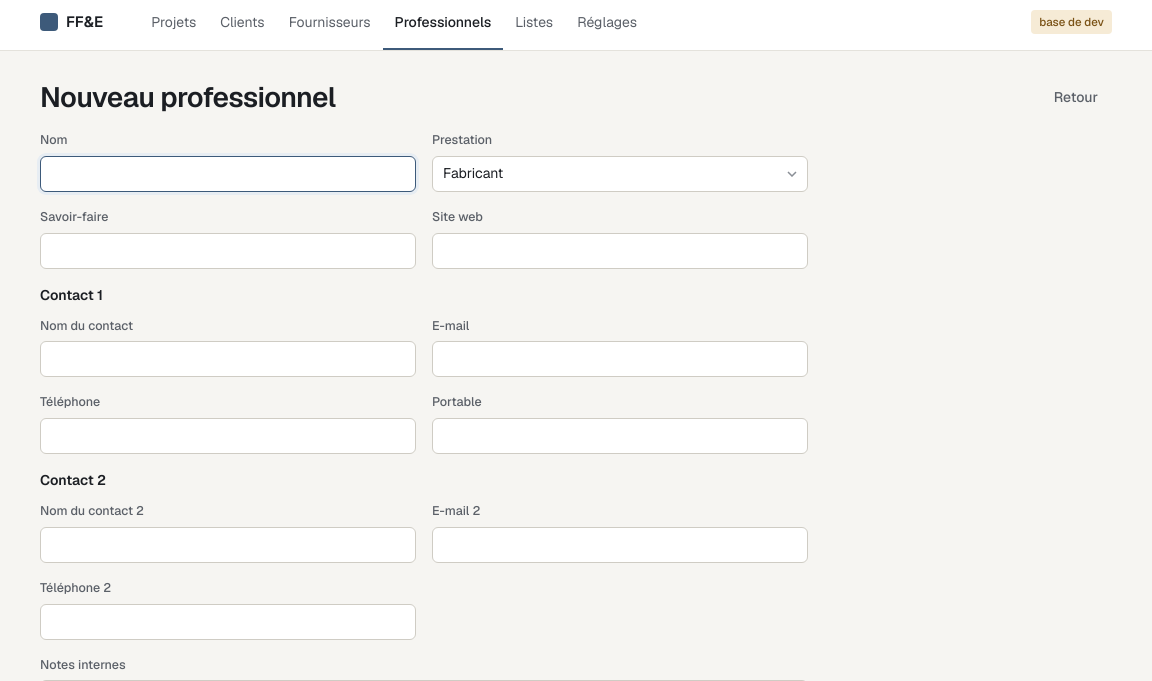
Test: professionnels › création et archivage avec confirmation
Type "Hay" into the field labelled "Nom" at (228, 174), box 40,156 -> 416,192
Select "Artisan" in the dropdown labelled "Prestation" at (620, 174), box 432,156 -> 808,192
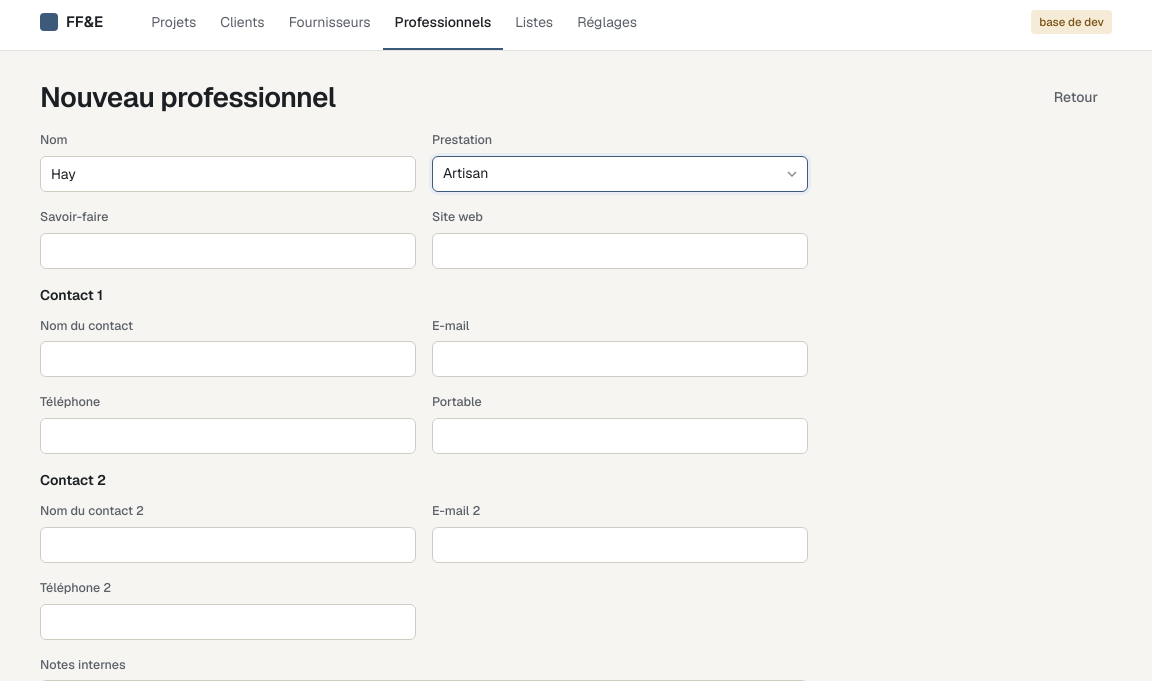
Type "Céramiste" into the field labelled "Savoir-faire" at (228, 250), box 40,232 -> 416,268
(page scrolled)
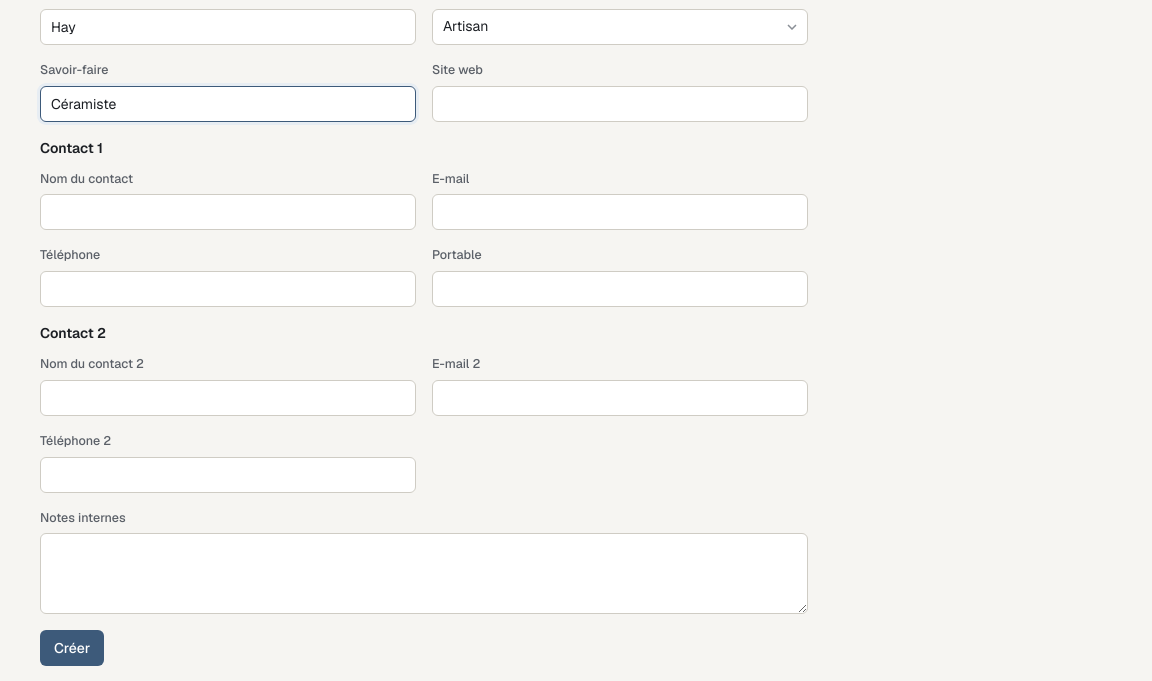
Click the button "Créer" at (72, 648), box 40,630 -> 104,666
(page scrolled)
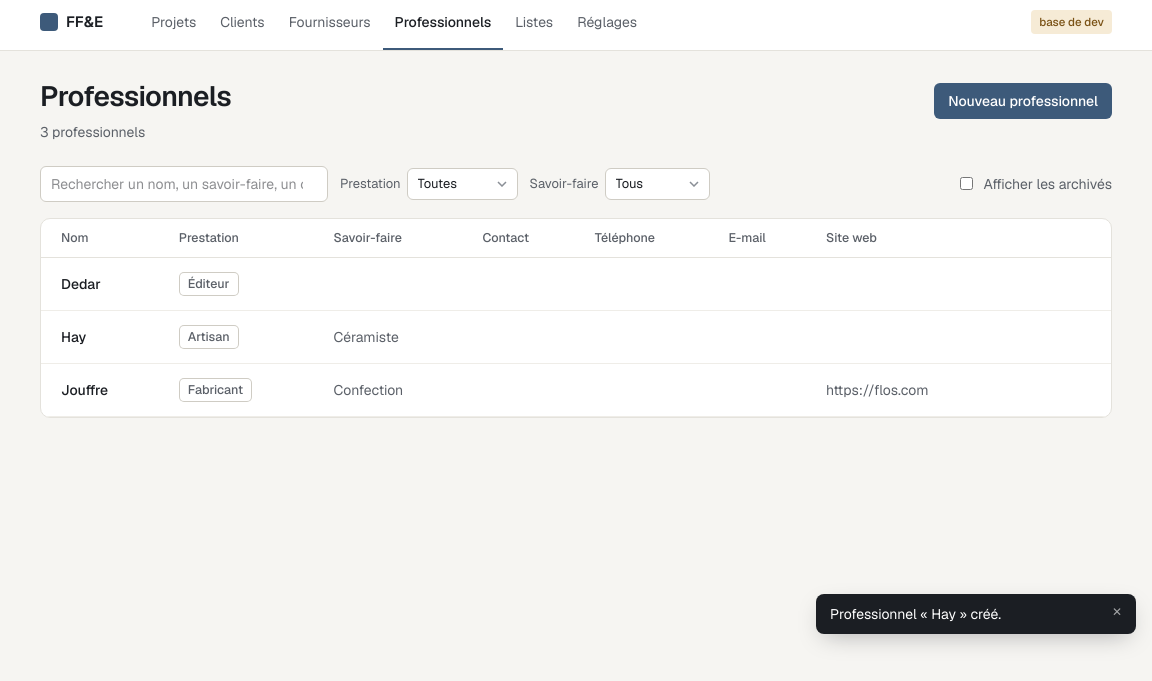
expect the heading "Professionnels" is shown: met, box 40,79 -> 231,114
Click the text "Hay" at (74, 337), box 61,328 -> 86,346
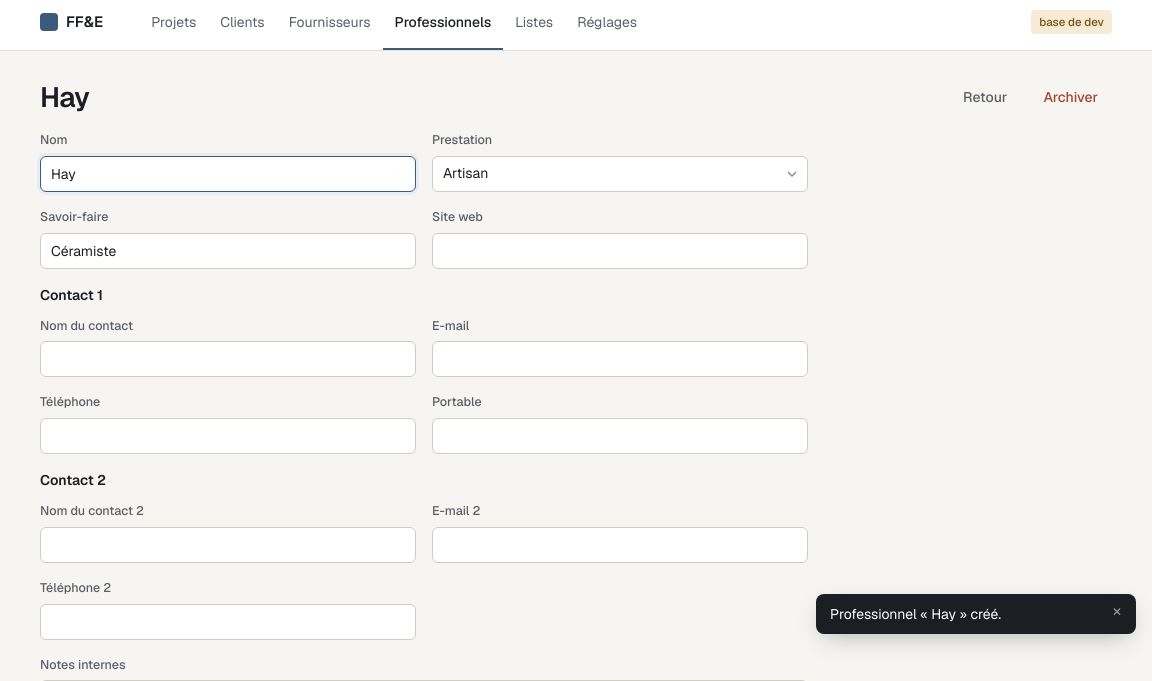
Click the button "Archiver" at (1071, 97), box 1029,79 -> 1112,115
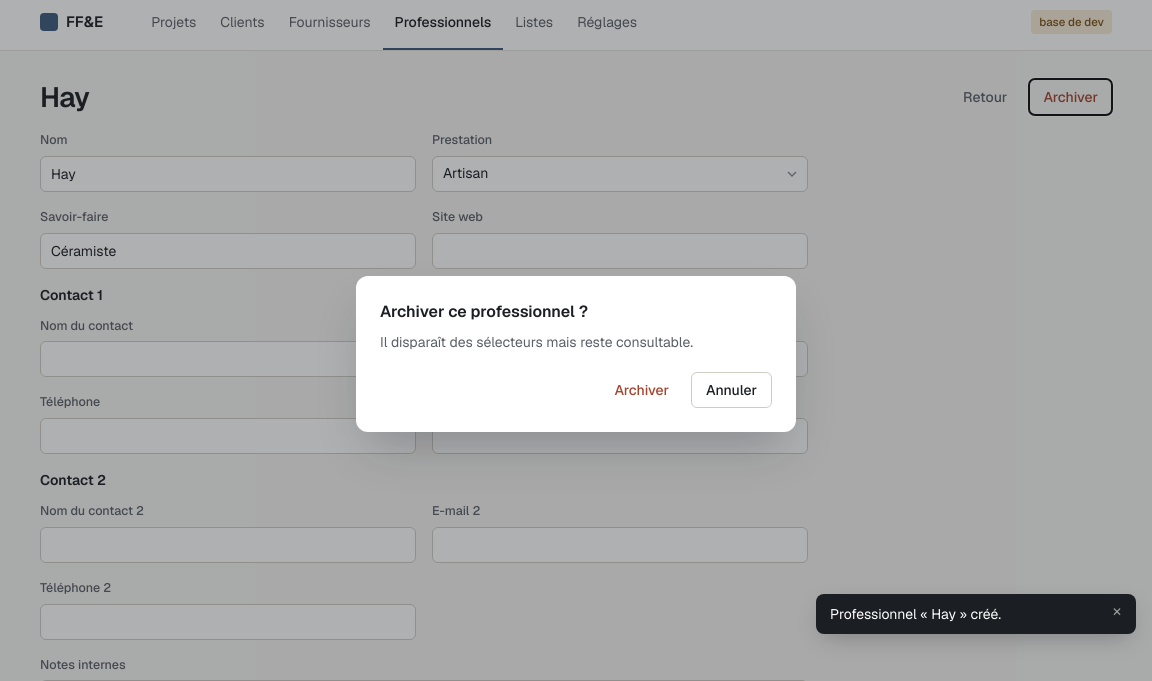
Click the button "Archiver" at (642, 390), box 600,372 -> 683,408
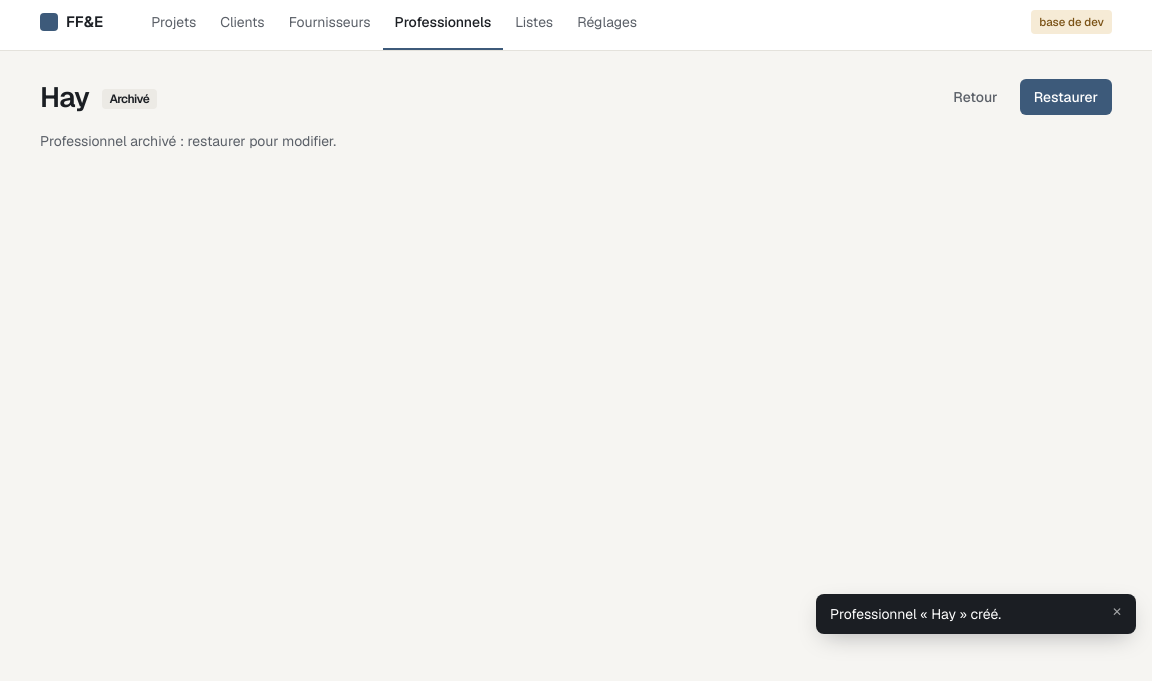
expect the text "Professionnel archivé : restaurer pour modifier." is shown: met, box 40,132 -> 336,150
